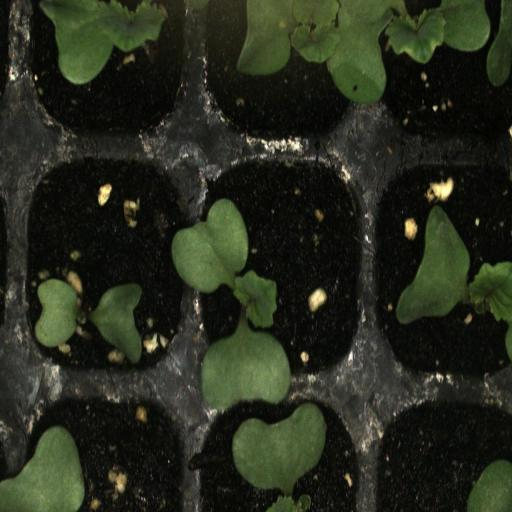seedling: (12, 143, 196, 386), (193, 148, 372, 392), (372, 146, 512, 390), (193, 0, 370, 142), (19, 0, 195, 140)
